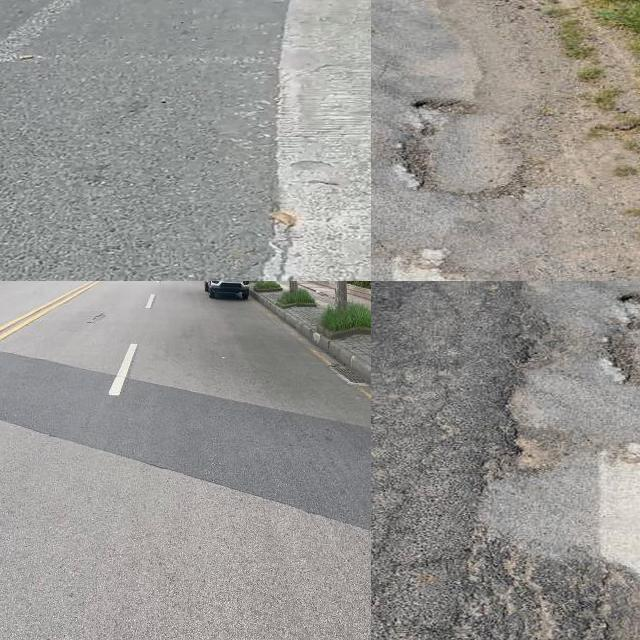Pinggir: (441, 281, 640, 611), (371, 0, 515, 281)
Sambungan: (0, 353, 371, 534), (266, 0, 371, 281)
